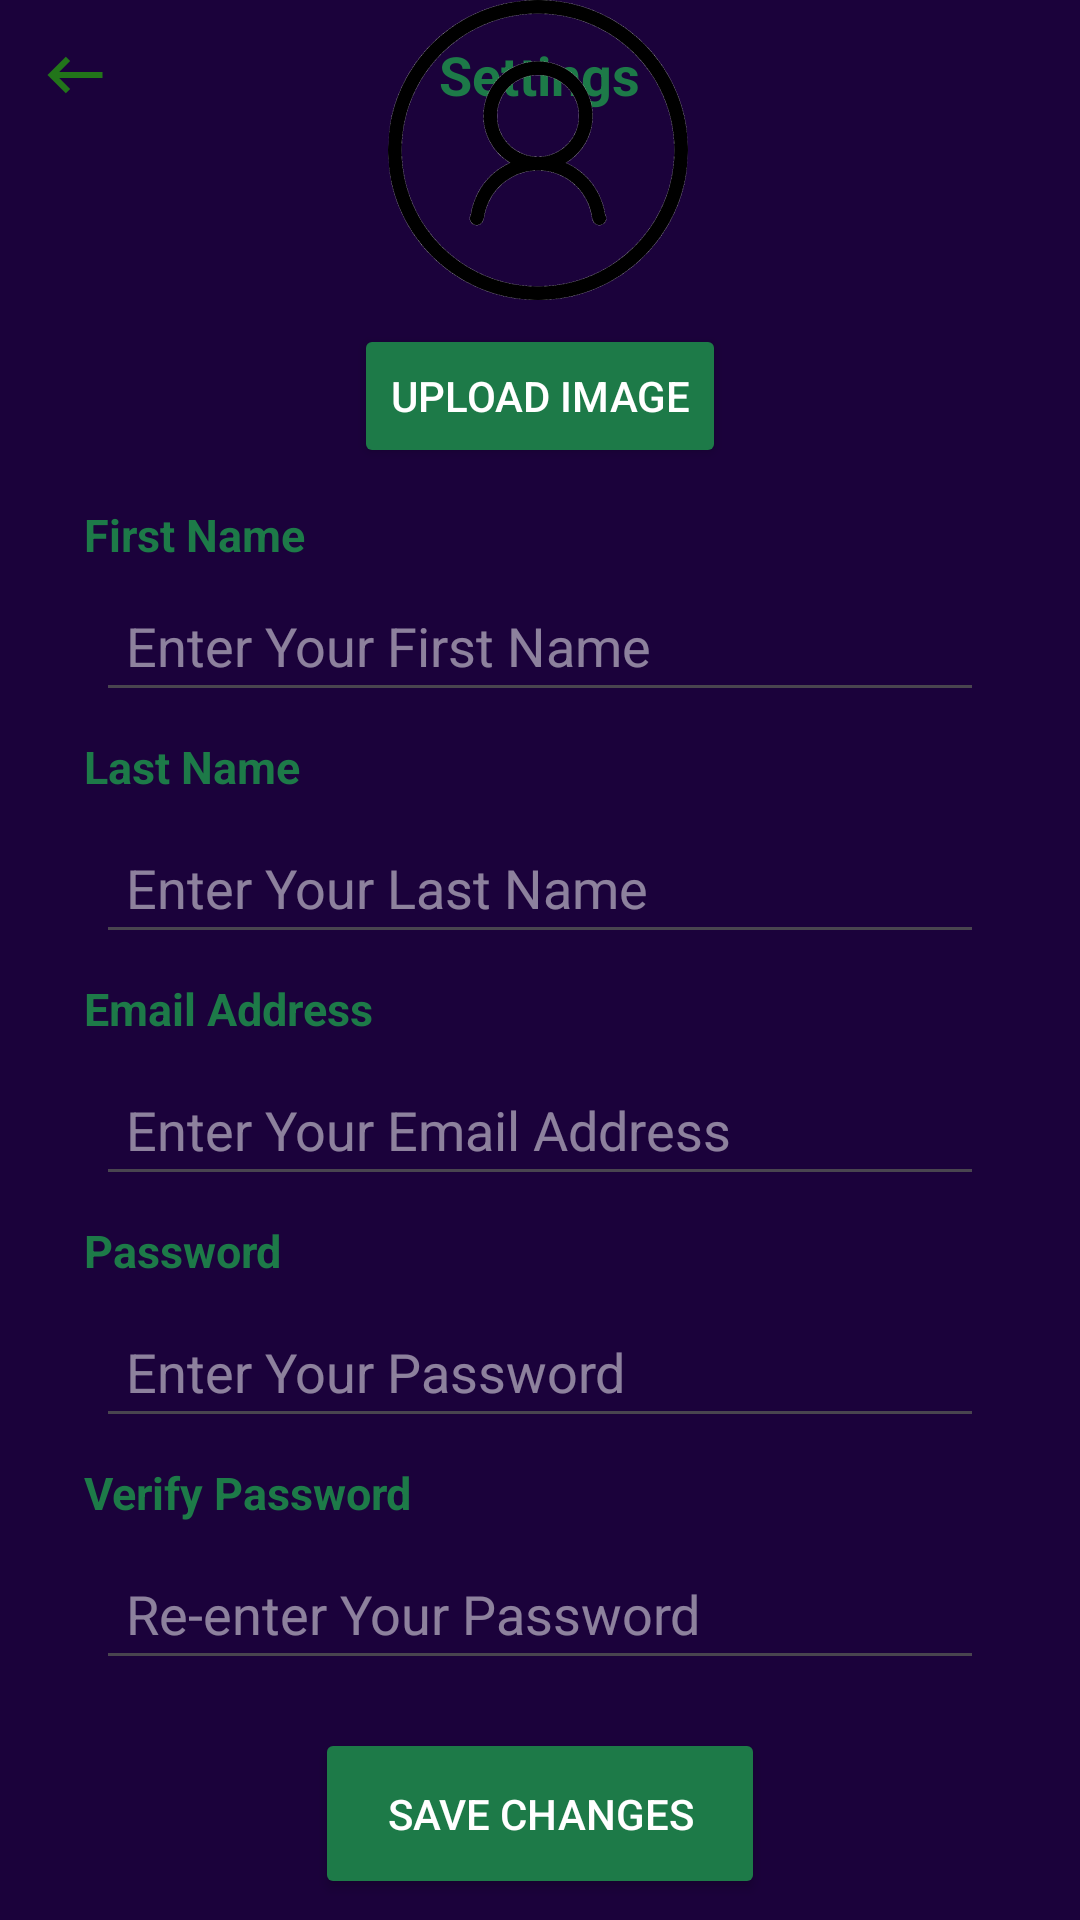

Named icons in this screenshot (1080px×1920px) and their centers, (x=x, y=y):
backbutton: (x=75, y=75)
